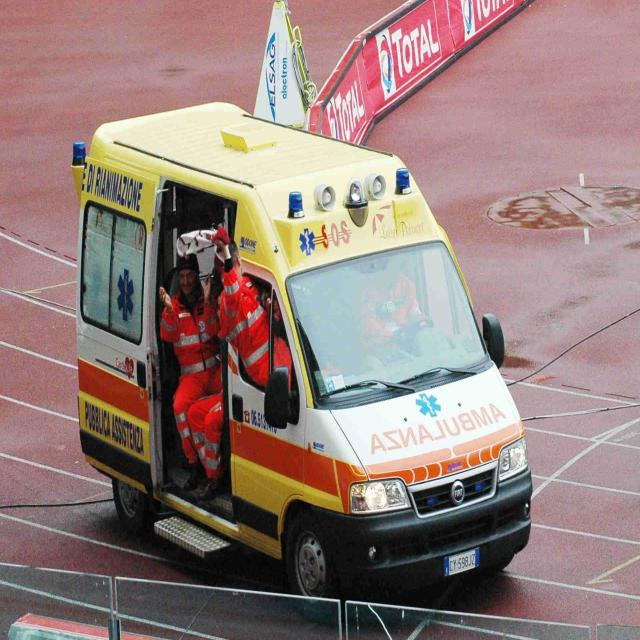ambulance: (55, 83, 548, 609)
